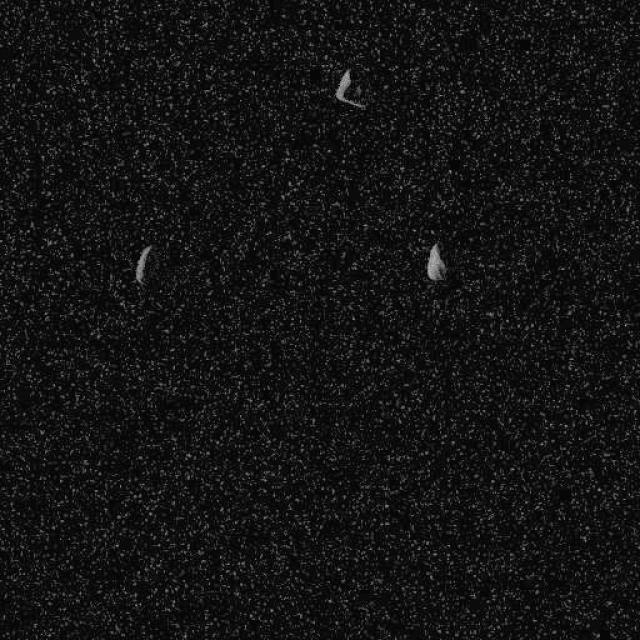D2: (334, 68, 366, 109), (425, 241, 447, 281), (132, 244, 154, 284)
